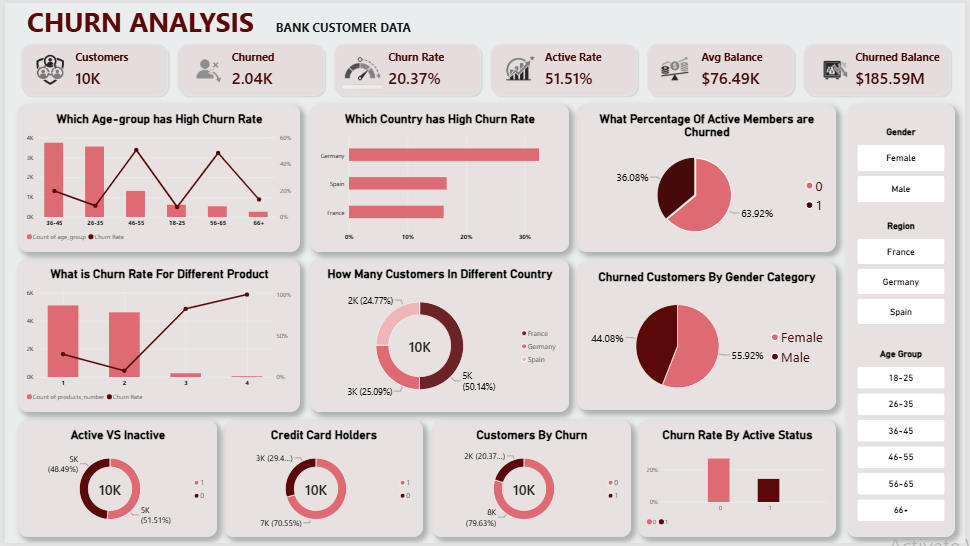

Layout of this report page (visuals, bound fields, positions):
{"tool":"powerbi","page":{"name":"Executive Overview","canvas":[1920,1080],"ordinal":0},"visuals":[{"type":"cardVisual","fields":{"Data":["_Measure.Total Customers","_Measure.Churned Customers","_Measure.Churn Rate","_Measure.Active Rate","_Measure.Avg Balance","_Measure.Churned Balance"]},"box":[26,76,1874,114],"z":0},{"type":"barChart","title":"Which Country has High Churn Rate","fields":{"Category":["public customer.country"],"Y":["_Measure.Churn Rate"]},"box":[610,202,518,296],"z":1000},{"type":"lineClusteredColumnComboChart","title":"Which Age-group has High Churn Rate","fields":{"Category":["public customer.age_group"],"Y":["CountNonNull(public customer.age_group)"],"Y2":["_Measure.Churn Rate"]},"box":[26,202,564,296],"z":2000},{"type":"lineClusteredColumnComboChart","title":"What is Churn Rate For Different Product","fields":{"Category":["public customer.products_number"],"Y2":["_Measure.Churn Rate"],"Y":["CountNonNull(public customer.products_number)"]},"box":[26,512,564,306],"z":3000},{"type":"pieChart","title":"What Percentage Of Active Members are Churned","fields":{"Category":["public customer.active_member"],"Y":["_Measure.Churned Customers"]},"box":[1144,202,518,296],"z":4000},{"type":"donutChart","title":"How Many Customers In Different Country","fields":{"Category":["public customer.country"],"Y":["_Measure.Total Customers"]},"box":[610,512,518,306],"z":5000},{"type":"donutChart","title":"Credit Card Holders","fields":{"Y":["_Measure.Total Customers"],"Category":["public customer.credit_card"]},"box":[438,834,398,234],"z":6000},{"type":"donutChart","title":"Active VS Inactive","fields":{"Y":["_Measure.Total Customers"],"Category":["public customer.active_member"]},"box":[26,834,398,234],"z":7000},{"type":"donutChart","title":"Customers By Churn","fields":{"Y":["_Measure.Total Customers"],"Category":["public customer.churn"]},"box":[854,834,398,234],"z":8000},{"type":"columnChart","title":"Churn Rate By Active Status","fields":{"Series":["public customer.active_member"],"Category":["public customer.active_member"],"Y":["_Measure.Churn Rate"]},"box":[1266,834,396,234],"z":9000},{"type":"pieChart","title":"Churned Customers By  Gender Category","fields":{"Y":["_Measure.Churned Customers"],"Category":["public customer.gender"]},"box":[1144,518,518,296],"z":10000},{"type":"shape","box":[1684,202,216,866],"z":11000},{"type":"advancedSlicerVisual","title":"Gender","fields":{"Values":["public customer.gender"]},"box":[1704,246,176,154],"z":12000},{"type":"advancedSlicerVisual","title":"Region","fields":{"Values":["public customer.country"]},"box":[1704,434,176,210],"z":13000},{"type":"advancedSlicerVisual","title":"Age Group","fields":{"Values":["public customer.age_group"]},"box":[1704,690,176,348],"z":14000},{"type":"textbox","box":[44,0,882,76],"z":14001}]}

Visuals, with their boxes in screenshot pixels (x1, y1, x2, y2), scaled from the page's 1920x1080 canvas onto the 970x546 screenshot:
cardVisual - _Measure.Total Customers x _Measure.Churned Customers: 13,38,960,96
"Which Country has High Churn Rate" barChart: 308,102,570,252
"Which Age-group has High Churn Rate" lineClusteredColumnComboChart: 13,102,298,252
"What is Churn Rate For Different Product" lineClusteredColumnComboChart: 13,259,298,414
"What Percentage Of Active Members are Churned" pieChart: 578,102,840,252
"How Many Customers In Different Country" donutChart: 308,259,570,414
"Credit Card Holders" donutChart: 221,422,422,540
"Active VS Inactive" donutChart: 13,422,214,540
"Customers By Churn" donutChart: 431,422,633,540
"Churn Rate By Active Status" columnChart: 640,422,840,540
"Churned Customers By  Gender Category" pieChart: 578,262,840,412
shape: 851,102,960,540
"Gender" advancedSlicerVisual: 861,124,950,202
"Region" advancedSlicerVisual: 861,219,950,326
"Age Group" advancedSlicerVisual: 861,349,950,525
textbox: 22,0,468,38
